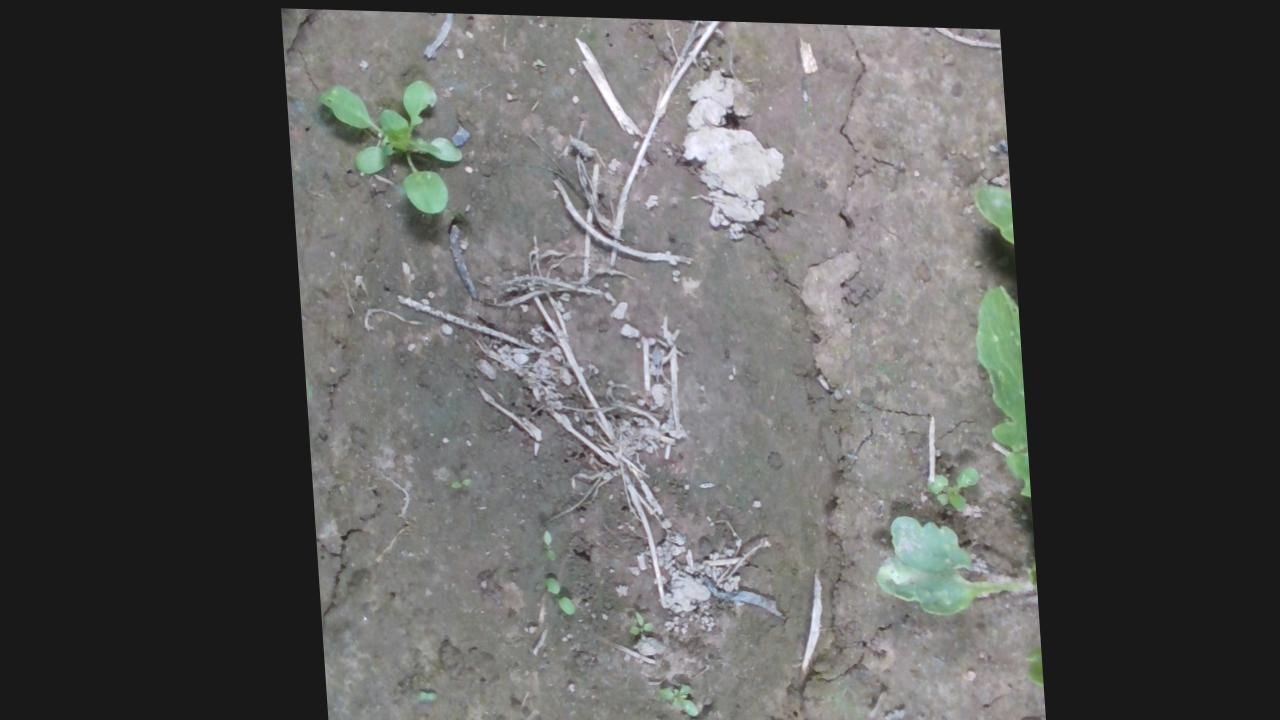weed: (919, 457, 975, 506), (537, 573, 570, 614), (649, 676, 685, 707), (616, 605, 649, 636), (534, 522, 551, 558), (441, 472, 467, 486)
